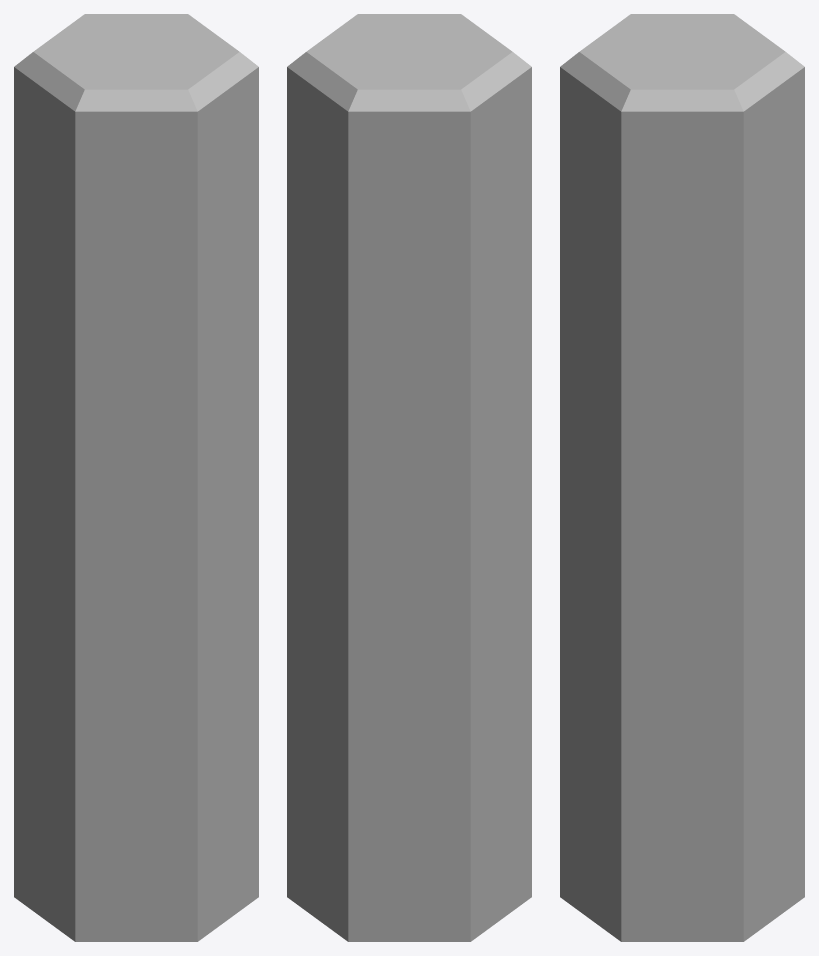
The model's file is Stone_1.fbx.
3 views of the same model, side by side, from view 1: azimuth 30°, elevation 25°; view 2: azimuth 150°, elevation 25°; view 3: azimuth 270°, elevation 25° (orthographic).
Visible parts, largest first — view 1: Stone; view 2: Stone; view 3: Stone.
Part boxes in pixels (box(x1,y1,x2,y2)): Stone: box(14, 14, 258, 941); Stone: box(287, 14, 531, 941); Stone: box(560, 14, 804, 941).
Bounding box in the file's own units: 173 × 762 × 200.
